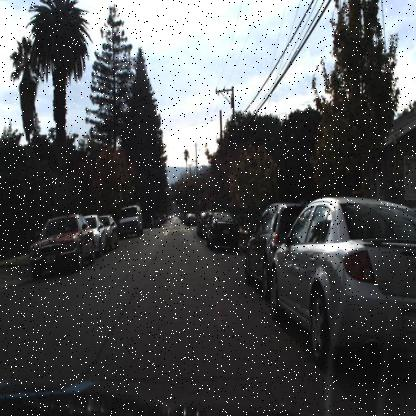car: (268, 190, 414, 371), (268, 195, 414, 371), (241, 193, 313, 296), (242, 198, 307, 302), (27, 210, 96, 278), (204, 210, 240, 250), (80, 213, 109, 258), (95, 213, 124, 251), (82, 211, 105, 256), (117, 202, 144, 238), (119, 205, 142, 241), (102, 212, 118, 249), (203, 211, 215, 243), (185, 212, 198, 228), (142, 214, 154, 230)
